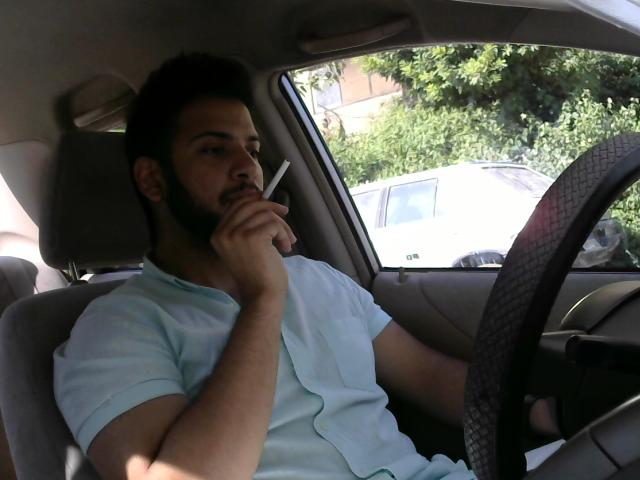Smoking: (254, 155, 295, 219)
